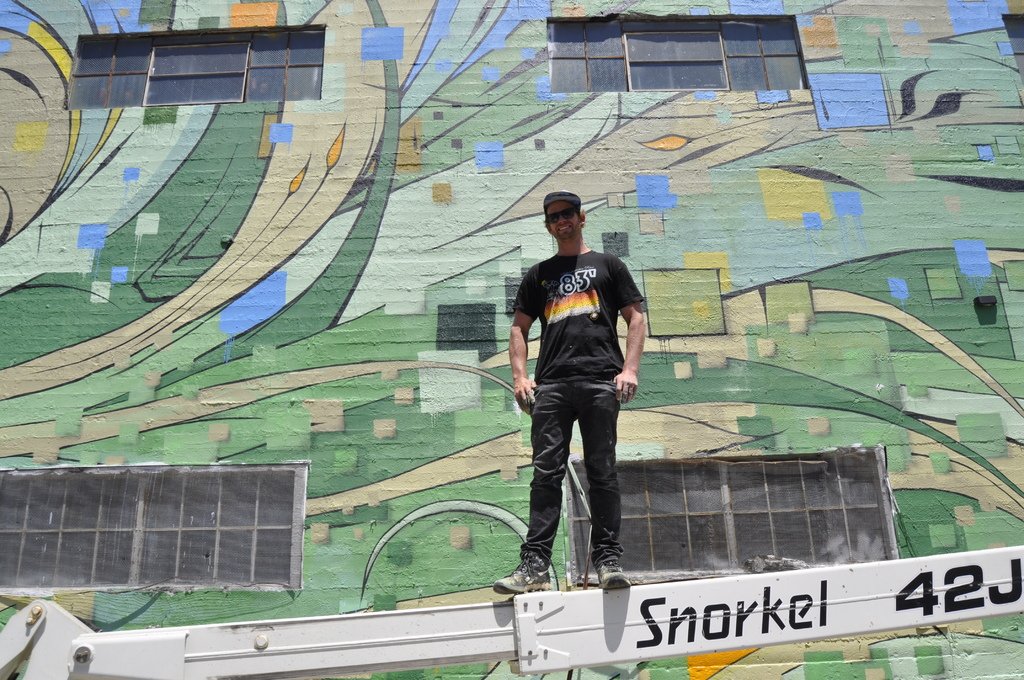Footwear: (494, 562, 554, 595), (598, 555, 628, 592)
